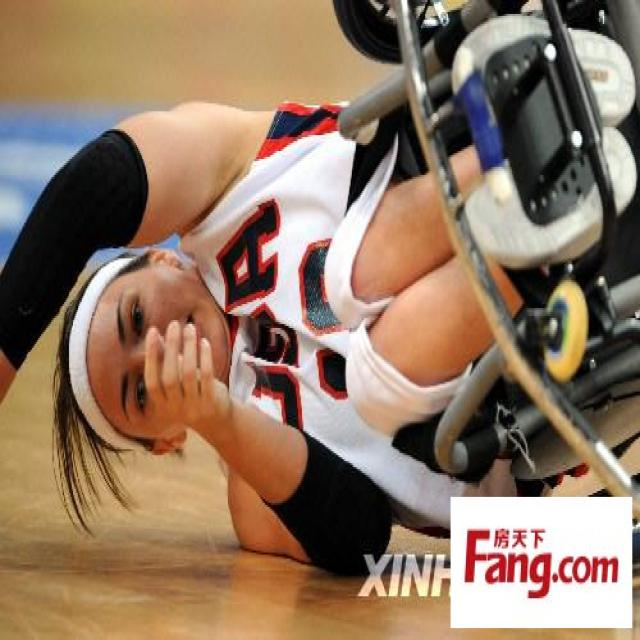fall: (26, 28, 562, 574)
